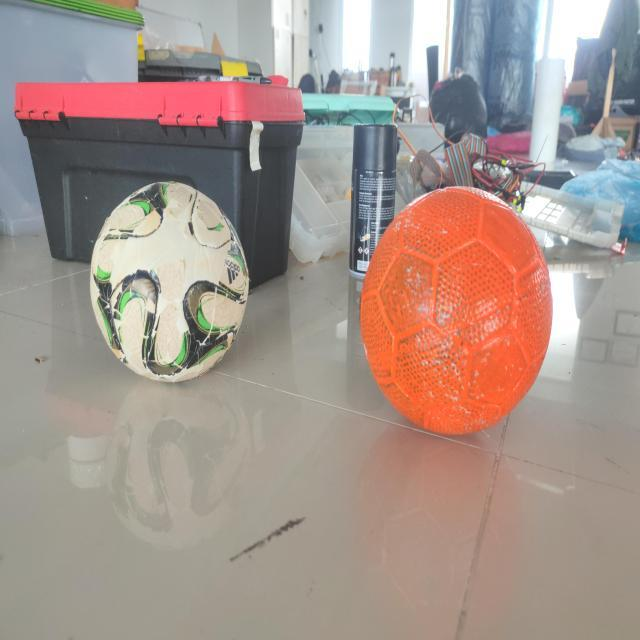bola: (358, 182, 558, 442)
